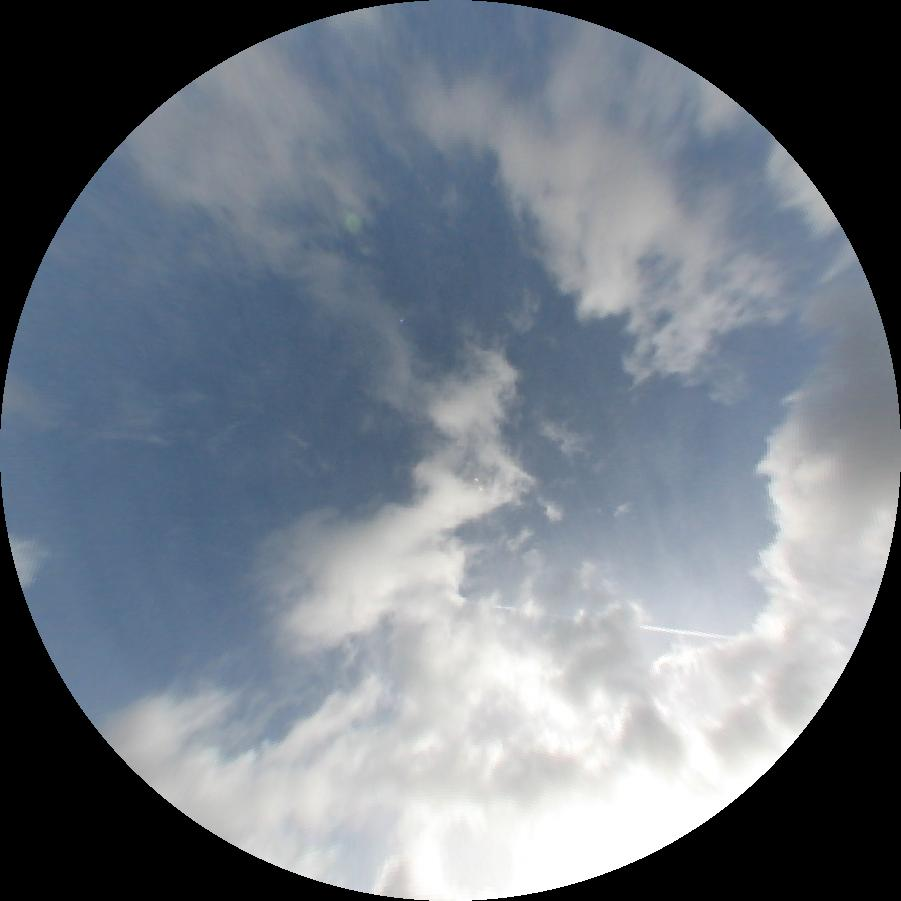contrail young: (215, 550, 742, 639)
sun: (521, 780, 722, 889)
